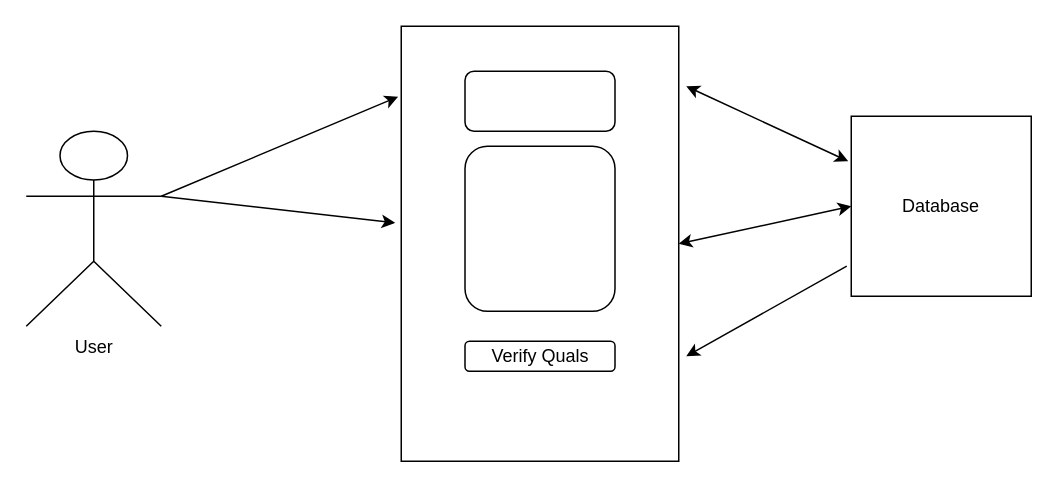
The diagram is 1058 pixels wide and 488 high, and some of its shapes have lost their labels. Each missing label, with the box of its shape:
Initiate Order Parts In Pro Sign Off Validate: (464, 145, 615, 311)
Login Verify: (464, 70, 615, 131)
